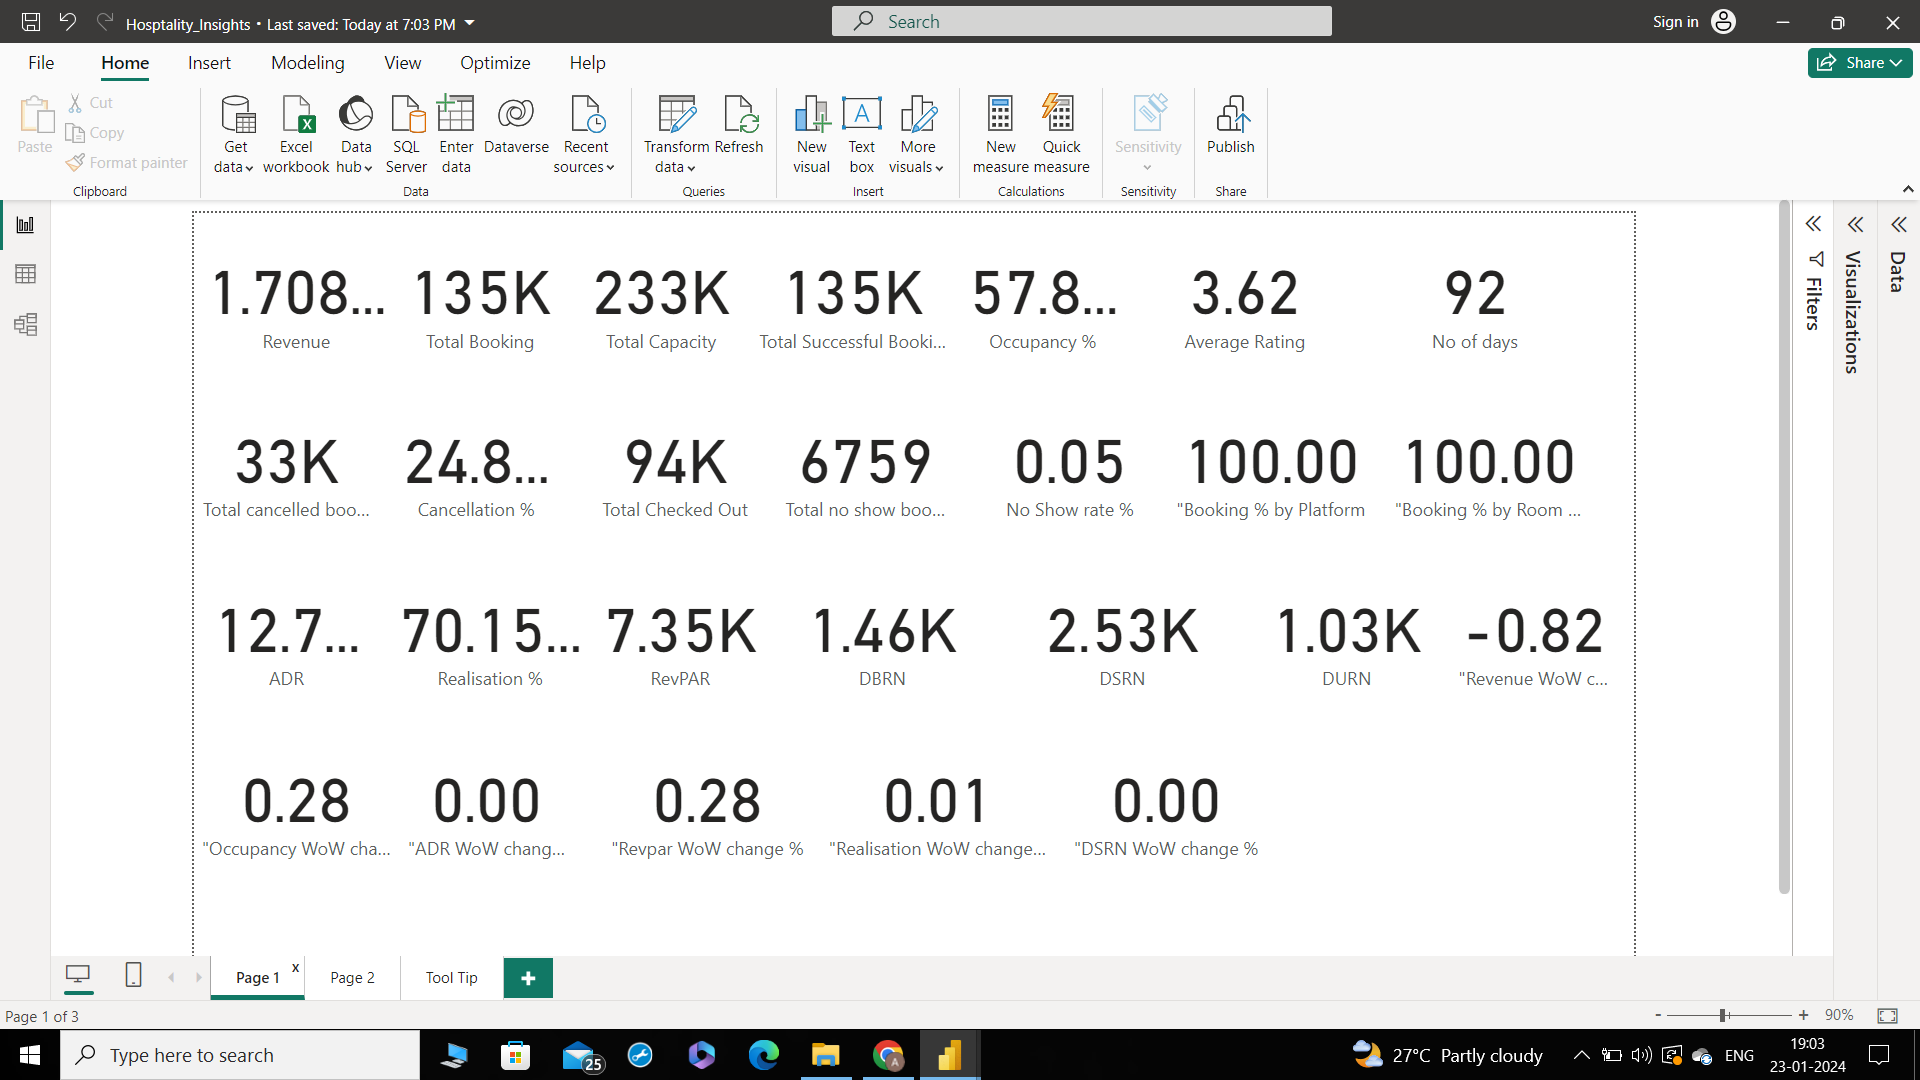

This screenshot's page, from the dashboard's own definition file:
{"tool":"powerbi","page":{"name":"Page 1","canvas":[1280,720],"ordinal":0},"visuals":[{"type":"card","fields":{"Values":["key_measures (2).Revenue"]},"box":[0,0,182.3,150.2],"z":0},{"type":"card","fields":{"Values":["key_measures (2).Total Booking"]},"box":[172.1,0,164.8,150.2],"z":1000},{"type":"card","fields":{"Values":["key_measures (2).Total Capacity"]},"box":[336.8,0,157.5,150.2],"z":2000},{"type":"card","fields":{"Values":["key_measures (2).Total Successful Bookings"]},"box":[494.3,0,182.3,150.2],"z":3000},{"type":"card","fields":{"Values":["key_measures (2).Occupancy %"]},"box":[676.6,0,156,150.2],"z":4000},{"type":"card","fields":{"Values":["key_measures (2).Average Rating"]},"box":[832.6,0,204.1,150.2],"z":5000},{"type":"card","fields":{"Values":["key_measures (2).No of days"]},"box":[1036.8,0,204.1,150.2],"z":6000},{"type":"card","fields":{"Values":["key_measures (2).Total cancelled bookings"]},"box":[0,150.2,164.8,150.2],"z":7000},{"type":"card","fields":{"Values":["key_measures (2).Cancellation %"]},"box":[172.1,150.2,157.5,150.2],"z":8000},{"type":"card","fields":{"Values":["key_measures (2).Total Checked Out"]},"box":[336.8,150.2,182.3,150.2],"z":9000},{"type":"card","fields":{"Values":["key_measures (2).Total no show bookings"]},"box":[519.1,150.2,156,150.2],"z":10000},{"type":"card","fields":{"Values":["key_measures (2).No Show rate %"]},"box":[676.6,150.2,204.1,150.2],"z":11000},{"type":"card","fields":{"Values":["key_measures (2).\"Booking % by Platform"]},"box":[856,150.2,204.1,150.2],"z":12000},{"type":"card","fields":{"Values":["key_measures (2).\"Booking % by Room class"]},"box":[1060.1,150.2,180.8,150.2],"z":13000},{"type":"card","fields":{"Values":["key_measures (2).Realisation %"]},"box":[172.1,300.4,182.3,150.2],"z":14000},{"type":"card","fields":{"Values":["key_measures (2).RevPAR"]},"box":[354.3,300.4,156,150.2],"z":15000},{"type":"card","fields":{"Values":["key_measures (2).DBRN"]},"box":[510.4,300.4,204.1,150.2],"z":16000},{"type":"card","fields":{"Values":["key_measures (2).DSRN"]},"box":[723.3,300.4,204.1,150.2],"z":17000},{"type":"card","fields":{"Values":["key_measures (2).DURN"]},"box":[934.7,300.4,180.8,150.2],"z":18000},{"type":"card","fields":{"Values":["key_measures (2).\"Revenue WoW change %"]},"box":[1115.5,300.4,150.2,150.2],"z":19000},{"type":"card","fields":{"Values":["key_measures (2).\"Occupancy WoW change %"]},"box":[0,450.6,182.3,150.2],"z":20000},{"type":"card","fields":{"Values":["key_measures (2).ADR"]},"box":[0,300.4,164.8,150.2],"z":21000},{"type":"card","fields":{"Values":["key_measures (2).\"ADR WoW change %"]},"box":[182.3,450.6,156,150.2],"z":22000},{"type":"card","fields":{"Values":["key_measures (2).\"Revpar WoW change %"]},"box":[354.3,450.6,204.1,150.2],"z":23000},{"type":"card","fields":{"Values":["key_measures (2).\"Realisation WoW change %"]},"box":[558.5,450.6,204.1,150.2],"z":24000},{"type":"card","fields":{"Values":["key_measures (2).\"DSRN WoW change %"]},"box":[762.6,450.6,204.1,150.2],"z":25000}]}

Visuals, with their boxes on the page's 1280x720 design canvas (x1, y1, x2, y2). These are canvas units, not pixel positions in the 1920x1080 screenshot, which may show the page scaled, cropped or inside an application window:
card - key_measures (2).Revenue: (left=0, top=0, right=182, bottom=150)
card - key_measures (2).Total Booking: (left=172, top=0, right=337, bottom=150)
card - key_measures (2).Total Capacity: (left=337, top=0, right=494, bottom=150)
card - key_measures (2).Total Successful Bookings: (left=494, top=0, right=677, bottom=150)
card - key_measures (2).Occupancy %: (left=677, top=0, right=833, bottom=150)
card - key_measures (2).Average Rating: (left=833, top=0, right=1037, bottom=150)
card - key_measures (2).No of days: (left=1037, top=0, right=1241, bottom=150)
card - key_measures (2).Total cancelled bookings: (left=0, top=150, right=165, bottom=300)
card - key_measures (2).Cancellation %: (left=172, top=150, right=330, bottom=300)
card - key_measures (2).Total Checked Out: (left=337, top=150, right=519, bottom=300)
card - key_measures (2).Total no show bookings: (left=519, top=150, right=675, bottom=300)
card - key_measures (2).No Show rate %: (left=677, top=150, right=881, bottom=300)
card - key_measures (2)."Booking % by Platform: (left=856, top=150, right=1060, bottom=300)
card - key_measures (2)."Booking % by Room class: (left=1060, top=150, right=1241, bottom=300)
card - key_measures (2).Realisation %: (left=172, top=300, right=354, bottom=451)
card - key_measures (2).RevPAR: (left=354, top=300, right=510, bottom=451)
card - key_measures (2).DBRN: (left=510, top=300, right=714, bottom=451)
card - key_measures (2).DSRN: (left=723, top=300, right=927, bottom=451)
card - key_measures (2).DURN: (left=935, top=300, right=1116, bottom=451)
card - key_measures (2)."Revenue WoW change %: (left=1116, top=300, right=1266, bottom=451)
card - key_measures (2)."Occupancy WoW change %: (left=0, top=451, right=182, bottom=601)
card - key_measures (2).ADR: (left=0, top=300, right=165, bottom=451)
card - key_measures (2)."ADR WoW change %: (left=182, top=451, right=338, bottom=601)
card - key_measures (2)."Revpar WoW change %: (left=354, top=451, right=558, bottom=601)
card - key_measures (2)."Realisation WoW change %: (left=558, top=451, right=763, bottom=601)
card - key_measures (2)."DSRN WoW change %: (left=763, top=451, right=967, bottom=601)
